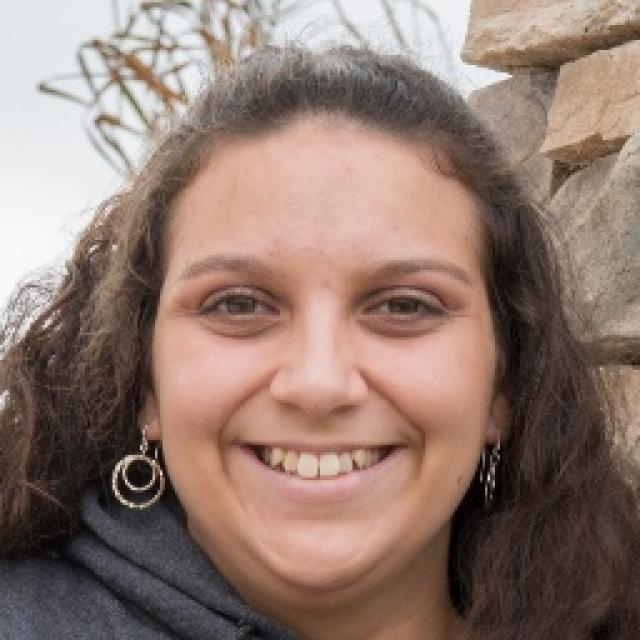earlobe: (483, 397, 516, 446), (134, 394, 163, 444)
eye: (206, 293, 284, 323), (361, 296, 440, 322)
nose: (272, 395, 364, 425)
